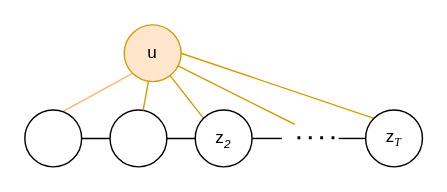
Image size: 447x192. Some labels were removed from this diagram. Here are the shapes that lost their labels. From the top down, the box of each, then its label:
(23, 109, 82, 167): z 0
(109, 109, 167, 167): z 1
